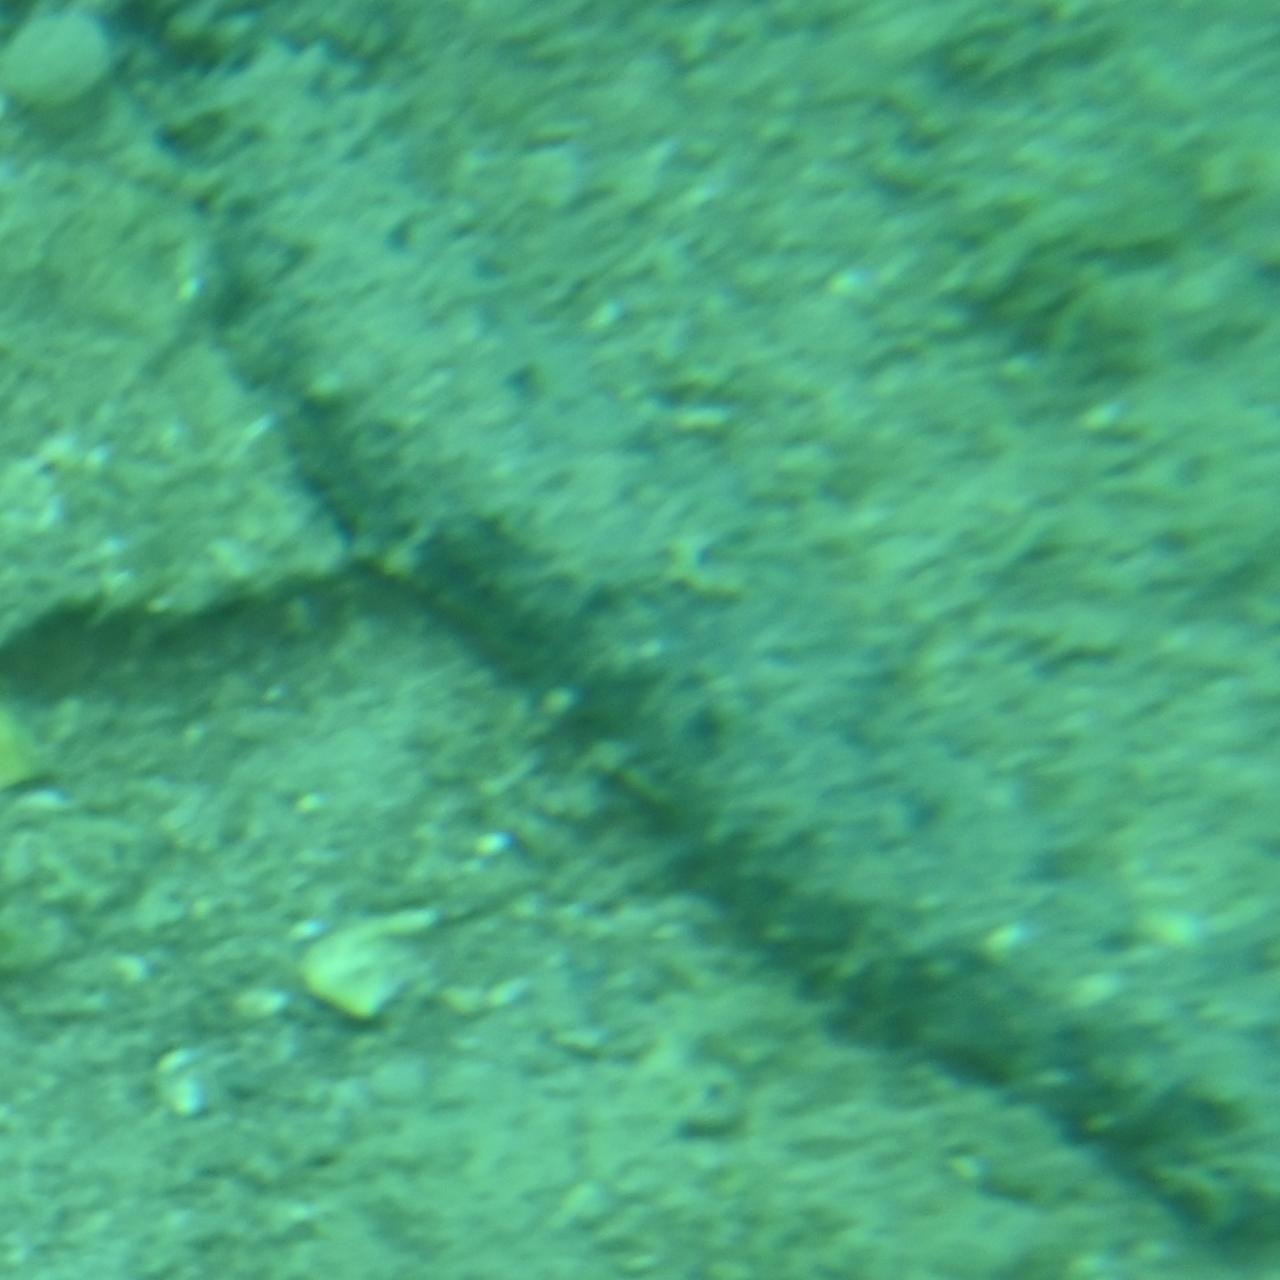Holothuria tubulosa: (183, 22, 1279, 1258)
